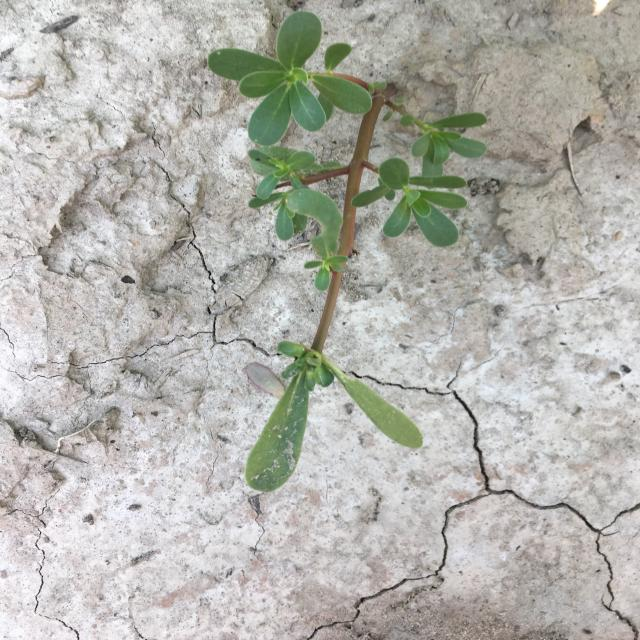Purslane: (207, 11, 487, 493)
